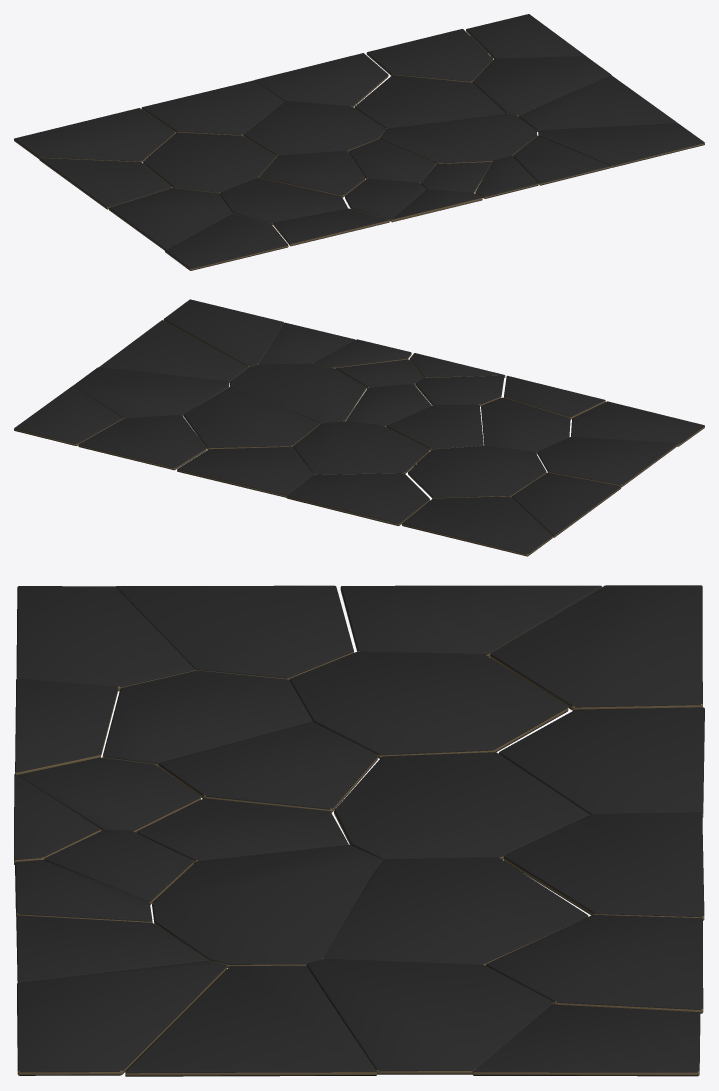
Rendered from auren_fractured_floor.glb.
The picture shows the model from 3 angles, top to bottom: view 1: azimuth 30°, elevation 25°; view 2: azimuth 150°, elevation 25°; view 3: azimuth 270°, elevation 25°; orthographic projection. The views are drawn at different scales.
Visible parts, largest first — view 1: floor_slab_001, floor_slab_004, floor_slab_005, floor_slab_002, floor_slab_003, floor_slab_006, floor_slab_008, floor_slab_007, floor_slab_011, floor_slab_009, floor_slab_010, floor_slab_012 (+12 smaller); view 2: floor_slab_001, floor_slab_004, floor_slab_003, floor_slab_002, floor_slab_005, floor_slab_006, floor_slab_008, floor_slab_007, floor_slab_009, floor_slab_010, floor_slab_012, floor_slab_011 (+12 smaller); view 3: floor_slab_001, floor_slab_004, floor_slab_002, floor_slab_005, floor_slab_003, floor_slab_006, floor_slab_007, floor_slab_008, floor_slab_011, floor_slab_009, floor_slab_010, floor_slab_012 (+12 smaller).
Part boxes in pixels (bbox=[...]): floor_slab_001: bbox=[143, 132, 276, 193]; floor_slab_004: bbox=[14, 108, 175, 162]; floor_slab_005: bbox=[379, 114, 537, 164]; floor_slab_002: bbox=[243, 101, 385, 156]; floor_slab_003: bbox=[354, 75, 505, 129]; floor_slab_006: bbox=[472, 56, 611, 116]; floor_slab_008: bbox=[141, 80, 283, 135]; floor_slab_007: bbox=[518, 75, 677, 131]; floor_slab_011: bbox=[538, 123, 704, 167]; floor_slab_009: bbox=[109, 187, 232, 250]; floor_slab_010: bbox=[254, 53, 388, 107]; floor_slab_012: bbox=[366, 29, 492, 82]; floor_slab_001: bbox=[408, 445, 546, 498]; floor_slab_004: bbox=[402, 496, 552, 556]; floor_slab_003: bbox=[183, 386, 319, 449]; floor_slab_002: bbox=[293, 421, 429, 474]; floor_slab_005: bbox=[229, 364, 366, 423]; floor_slab_006: bbox=[73, 367, 229, 418]; floor_slab_008: bbox=[286, 473, 429, 525]; floor_slab_007: bbox=[99, 320, 247, 382]; floor_slab_009: bbox=[537, 436, 678, 487]; floor_slab_010: bbox=[177, 446, 314, 497]; floor_slab_012: bbox=[78, 415, 206, 470]; floor_slab_011: bbox=[163, 299, 283, 367]; floor_slab_001: bbox=[289, 652, 568, 758]; floor_slab_004: bbox=[490, 585, 702, 710]; floor_slab_002: bbox=[334, 752, 589, 860]; floor_slab_005: bbox=[152, 844, 381, 967]; floor_slab_003: bbox=[323, 857, 588, 965]; floor_slab_006: bbox=[306, 959, 553, 1074]; floor_slab_007: bbox=[125, 965, 377, 1076]; floor_slab_008: bbox=[499, 707, 704, 817]; floor_slab_011: bbox=[17, 960, 227, 1075]; floor_slab_009: bbox=[115, 585, 353, 679]; floor_slab_010: bbox=[503, 812, 704, 920]; floor_slab_012: bbox=[486, 915, 703, 1013].
Size of the model in its own units: 10.01 by 0.0703 by 6.01.
